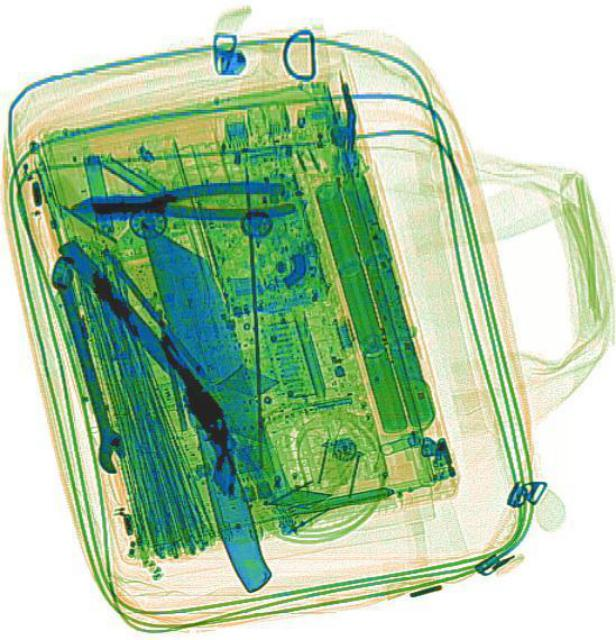Knife: (140, 210, 289, 598)
Pliers: (64, 177, 293, 226)
Wrench: (42, 252, 129, 474)
